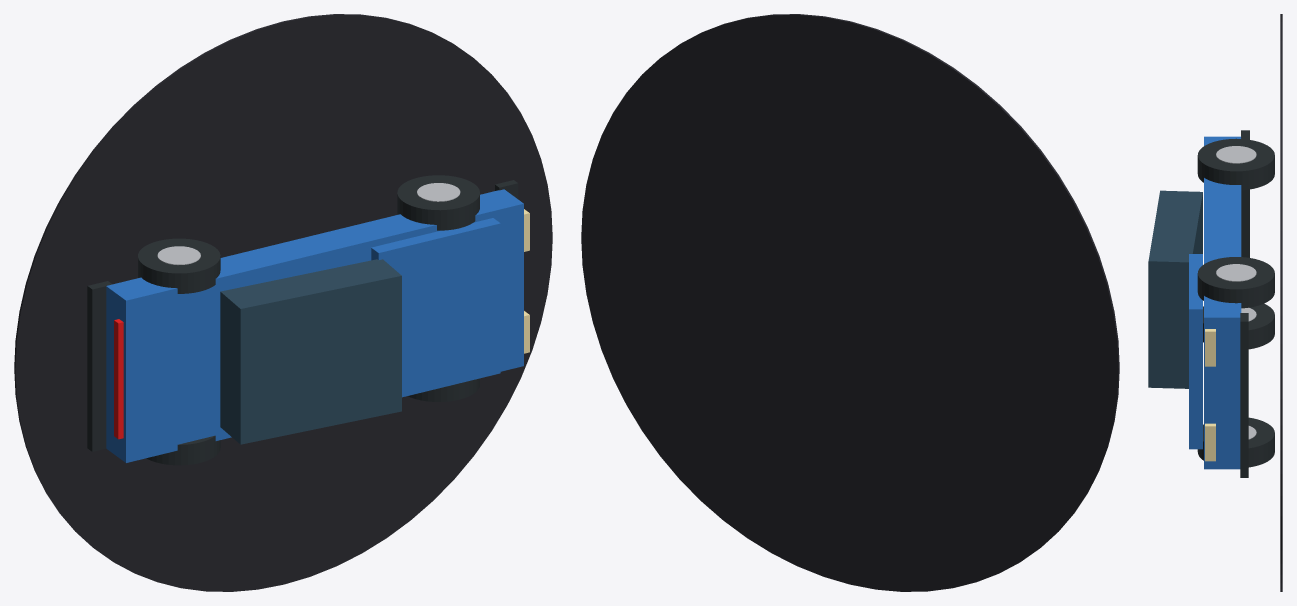
Rendered from bugatti-chiron.glb.
3 renders of one model, left to right at view 1: azimuth 30°, elevation 25°; view 2: azimuth 150°, elevation 25°; view 3: azimuth 270°, elevation 25°, orthographic. The views are drawn at different scales.
Visible parts, largest first — view 1: world; view 2: world; view 3: world.
Boxes of the visible parts, <box> form: world: <box>14,14,552,591</box>; world: <box>581,14,1119,591</box>; world: <box>1148,14,1282,591</box>.
Bounding box in the file's own units: 6.3 × 6.3 × 1.46.
